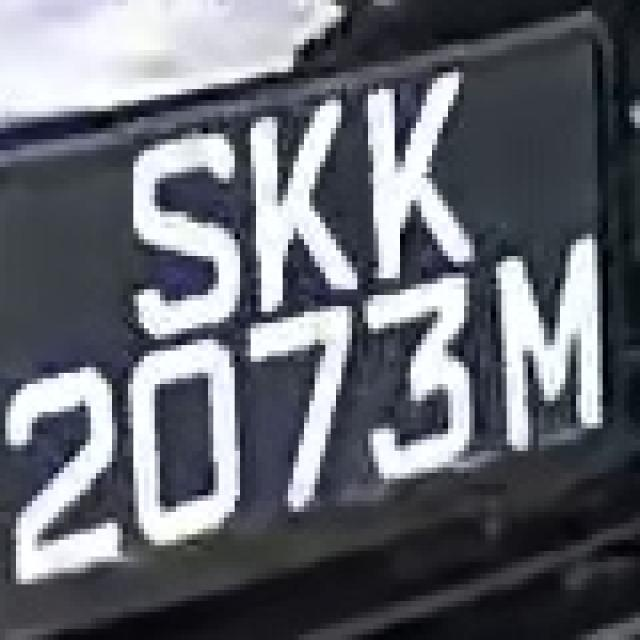0: (112, 334, 245, 556)
2: (0, 350, 123, 606)
3: (352, 273, 475, 495)
7: (219, 284, 368, 495)
K: (218, 67, 346, 328), (346, 39, 474, 273)
M: (469, 228, 614, 456)
S: (128, 106, 251, 350)
